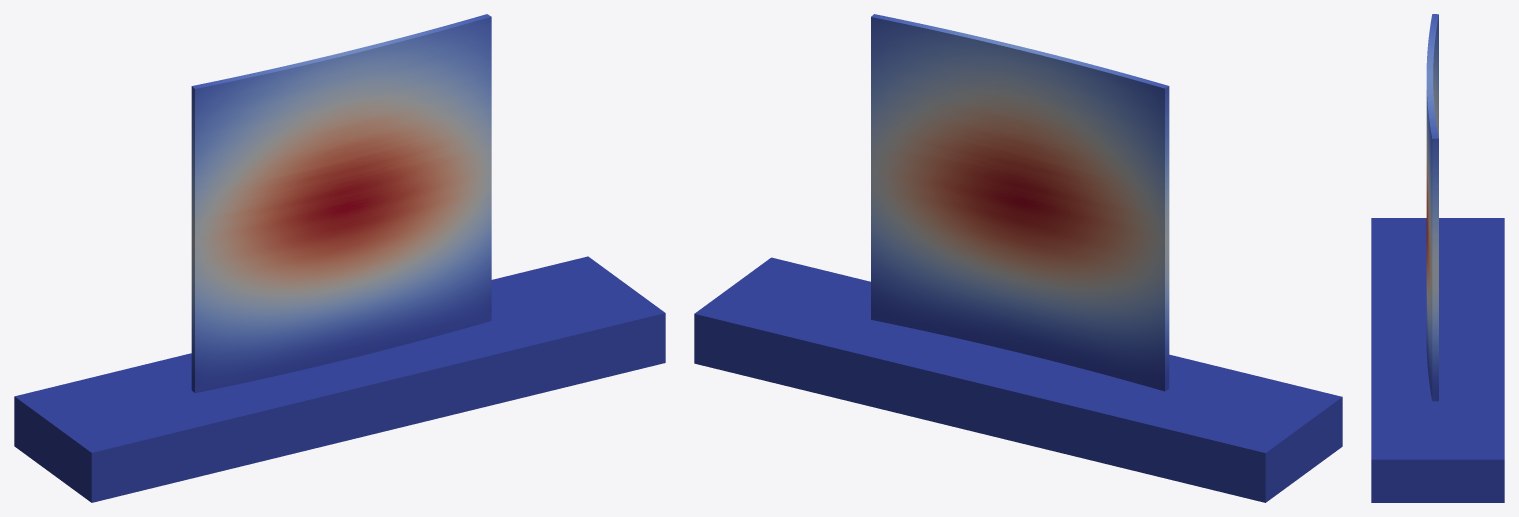
Rendered from Curved_Static.glb.
3 renders of one model, left to right at view 1: azimuth 30°, elevation 25°; view 2: azimuth 150°, elevation 25°; view 3: azimuth 270°, elevation 25°, orthographic. The views are drawn at different scales.
Visible parts, largest first — view 1: Curved_2000; view 2: Curved_2000; view 3: Curved_2000.
Part boxes in pixels (box(x1,y1,x2,y2)): Curved_2000: box(14, 14, 665, 502); Curved_2000: box(694, 14, 1342, 502); Curved_2000: box(1371, 14, 1504, 502).
Size of the model in its own units: 6 by 3.54 by 1.4.
